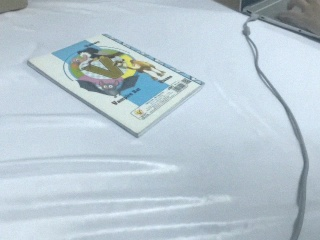book: (30, 31, 205, 141)
